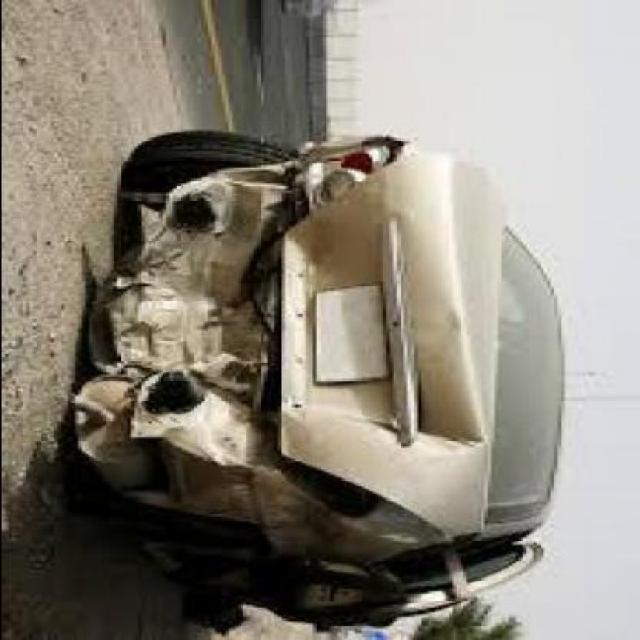damage: (71, 135, 506, 624)
